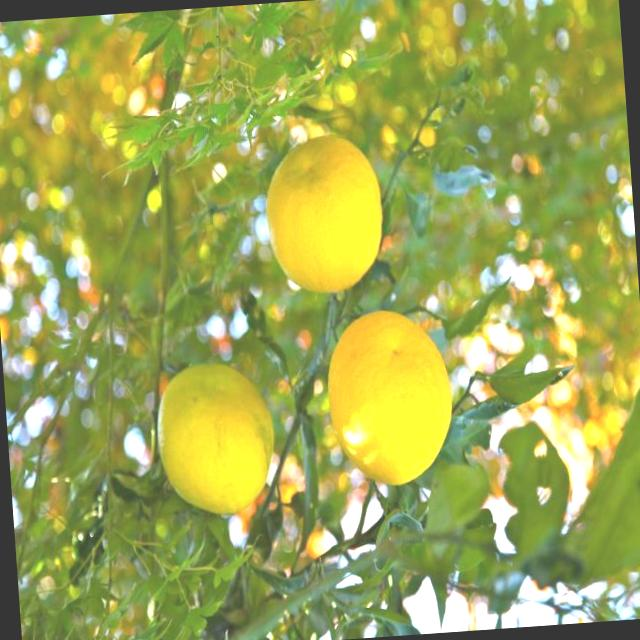Orange: (322, 306, 458, 490), (260, 131, 388, 298), (151, 358, 279, 520)
